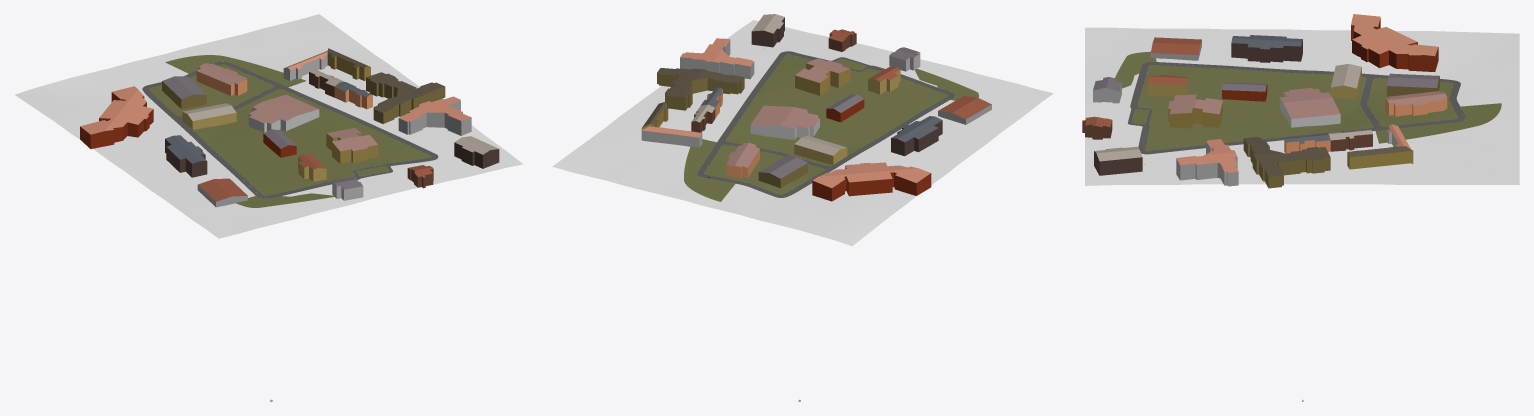
The model's file is Campus02_new_blndr.fbx.
3 views of the same model, side by side, from view 1: azimuth 30°, elevation 25°; view 2: azimuth 150°, elevation 25°; view 3: azimuth 270°, elevation 25° (orthographic). The views are drawn at different scales.
Visible parts, largest first — view 1: Terrain, Terrain_GroundNode, Terrain_Ground_1Node, Volpe Library and Media Center, New Hall-North, Terrain_Ground_3Node, Terrain_Ground_2Node, New Hall-South, Roaden University Center, Derryberry Hall, Clement Hall, Pennebaker Hall (+16 smaller); view 2: Terrain, Terrain_GroundNode, Volpe Library and Media Center, Terrain_Ground_1Node, Terrain_Ground_3Node, New Hall-North, Terrain_Ground_2Node, Roaden University Center, New Hall-South, Derryberry Hall, Clement Hall, Johnson Hall (+14 smaller); view 3: Terrain, Terrain_Ground_1Node, Terrain_GroundNode, Volpe Library and Media Center, Terrain_Ground_3Node, New Hall-North, Roaden University Center, New Hall-South, Terrain_Ground_2Node, Clement Hall, Derryberry Hall, Pennebaker Hall (+15 smaller).
Boxes of the visible parts, x1,y1,x2,y2 form: Terrain: (15,14,522,238); Terrain_GroundNode: (205,129,347,207); Terrain_Ground_1Node: (279,109,431,177); Volpe Library and Media Center: (80,86,153,149); New Hall-North: (366,72,445,123); Terrain_Ground_3Node: (179,55,327,111); Terrain_Ground_2Node: (149,58,254,141); New Hall-South: (398,96,471,135); Roaden University Center: (248,94,319,132); Derryberry Hall: (326,128,378,163); Clement Hall: (165,135,207,177); Pennebaker Hall: (196,63,247,95); Terrain: (552,20,1053,246); Terrain_GroundNode: (816,69,978,145); Volpe Library and Media Center: (812,162,931,201); Terrain_Ground_1Node: (744,49,875,116); Terrain_Ground_3Node: (684,113,786,197); New Hall-North: (657,68,744,110); Terrain_Ground_2Node: (708,133,864,201); Roaden University Center: (750,105,819,139); New Hall-South: (680,38,754,79); Derryberry Hall: (795,58,850,95); Clement Hall: (891,116,942,156); Johnson Hall: (758,156,807,188); Terrain: (1085,27,1519,185); Terrain_Ground_1Node: (1131,103,1302,164); Terrain_GroundNode: (1115,51,1302,106); Volpe Library and Media Center: (1351,14,1438,71); Terrain_Ground_3Node: (1302,107,1500,143); New Hall-North: (1243,136,1330,188); Roaden University Center: (1279,87,1340,127); New Hall-South: (1176,139,1238,186); Terrain_Ground_2Node: (1302,73,1501,109); Clement Hall: (1231,35,1302,62); Derryberry Hall: (1168,94,1222,128); Pennebaker Hall: (1385,91,1447,116).
Bounding box in the file's own units: 41246 × 36799 × 46657.
